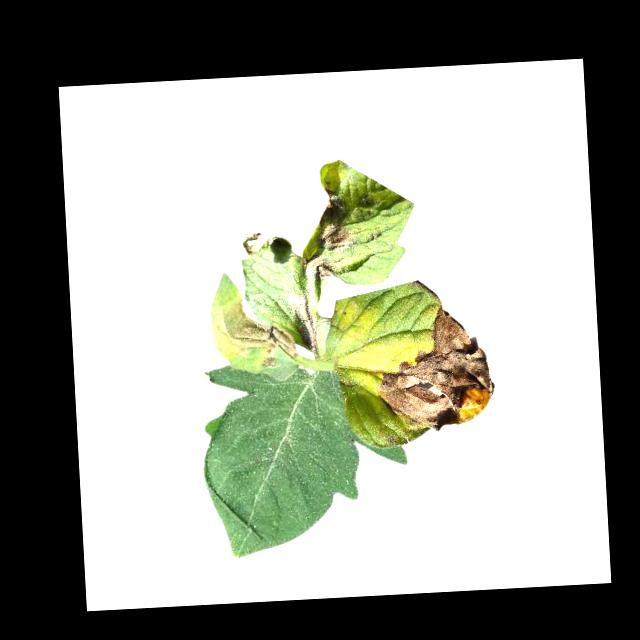Late_blight: (371, 303, 496, 433), (211, 295, 300, 364), (313, 182, 354, 257), (290, 291, 319, 358), (300, 254, 340, 280), (241, 228, 274, 254), (258, 356, 279, 369)
